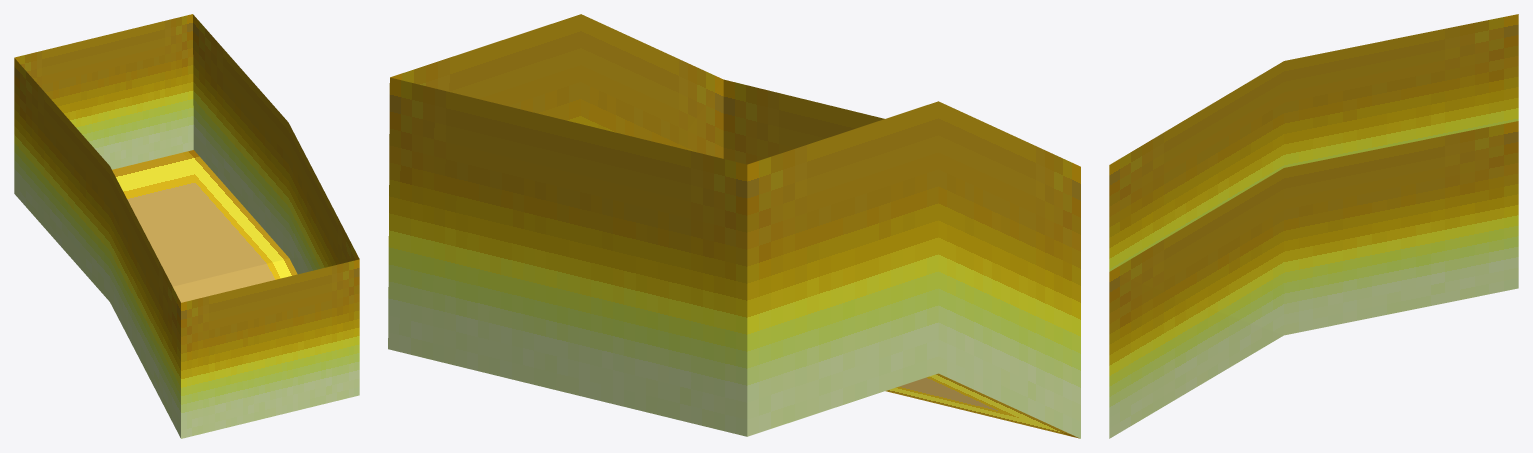
File: selecttile_b.dae
3 renders of one model, left to right at view 1: azimuth 30°, elevation 25°; view 2: azimuth 150°, elevation 25°; view 3: azimuth 270°, elevation 25°, orthographic. The views are drawn at different scales.
Visible parts, largest first — view 1: selecttile_bridge; view 2: selecttile_bridge; view 3: selecttile_bridge.
Part boxes in pixels (left/top/right/bottom): selecttile_bridge: left=14, top=14, right=359, bottom=438; selecttile_bridge: left=388, top=14, right=1080, bottom=438; selecttile_bridge: left=1109, top=14, right=1518, bottom=438.
Bounding box in the file's own units: 1.37 × 2.2 × 1.89.
1 material, 1 textured.
